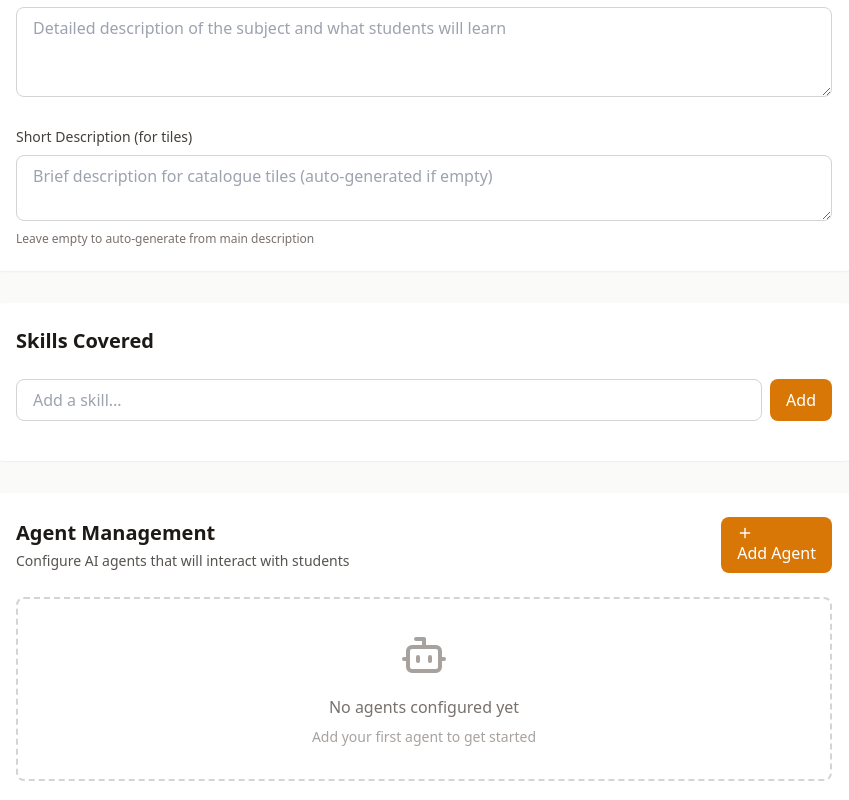
Test case: SubjectEditMode › handles skill management
(page scrolled)
Type "reading" into the field with placeholder "Add a skill..." at (389, 400), box x1=16 y1=379 x2=762 y2=421
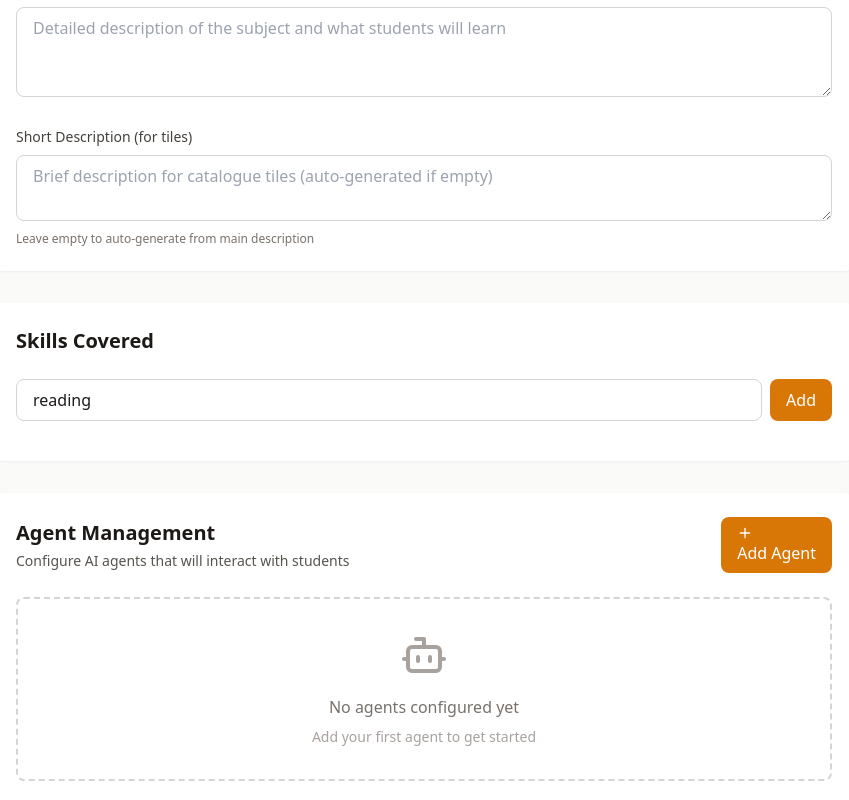
Click the button "Add" at (801, 400), box x1=770 y1=379 x2=832 y2=421
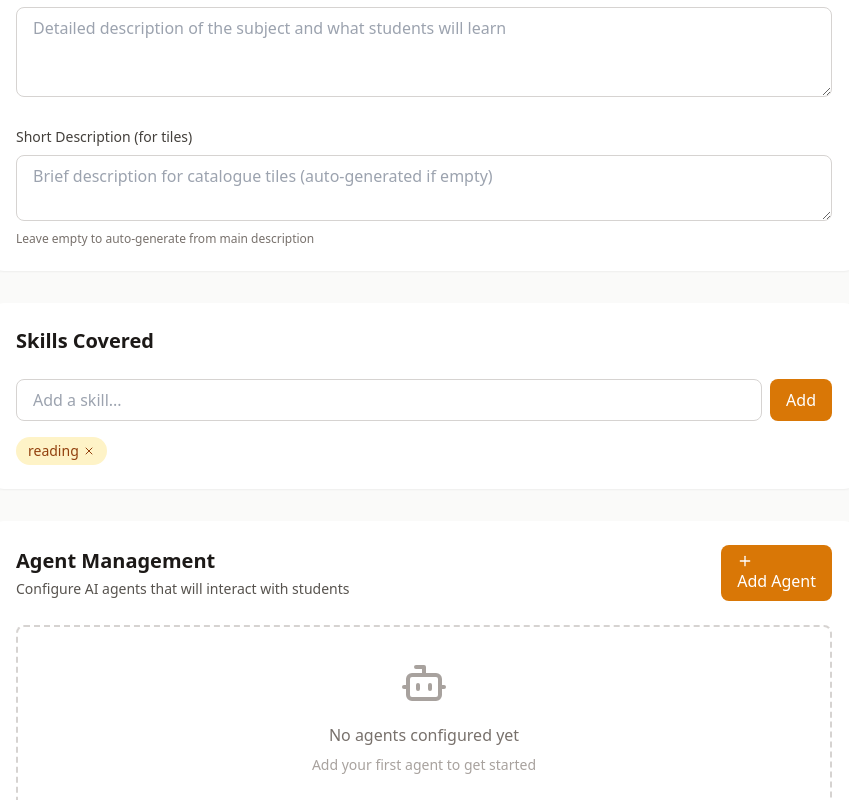
Expected: the text "reading" is shown, x1=16 y1=437 x2=107 y2=465
